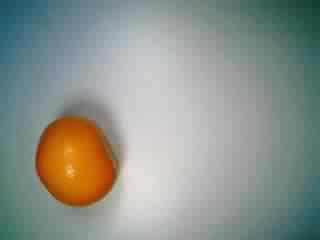orange: (28, 111, 122, 210)
